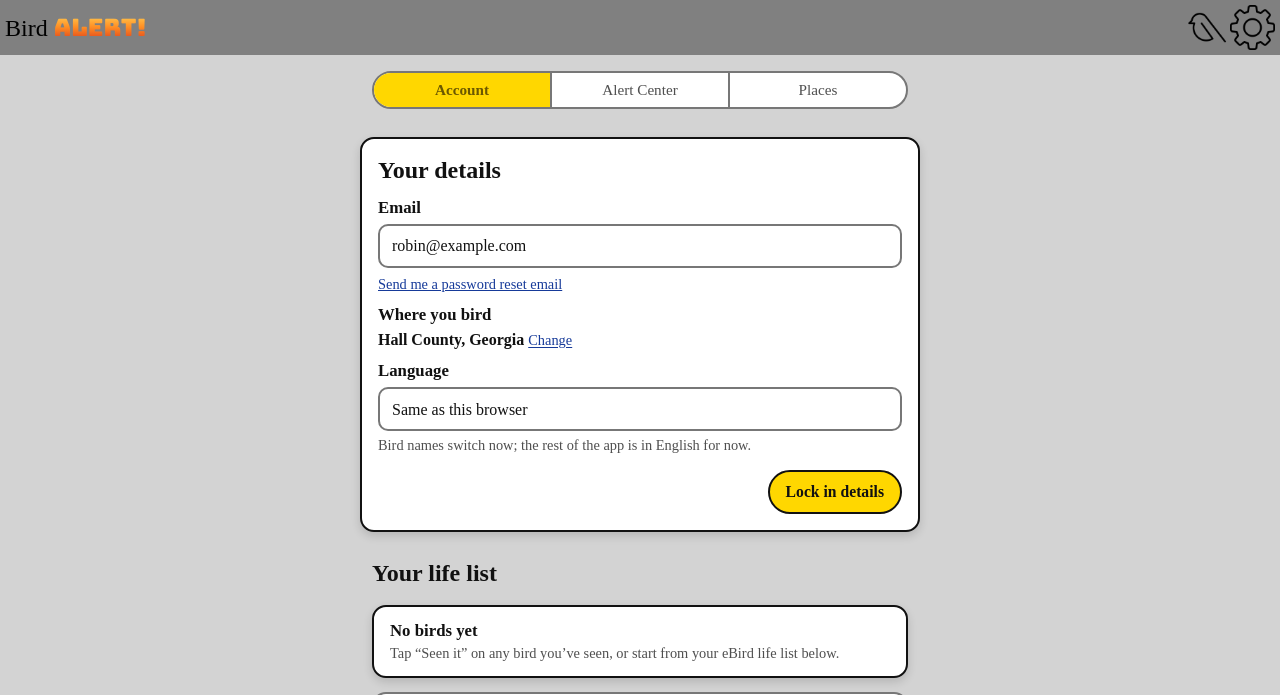
Settings › keeps the push sub-options greyed out until push is on for this device
Click the button "Alert Center".
click(639, 90)  # box [550,73,728,107]
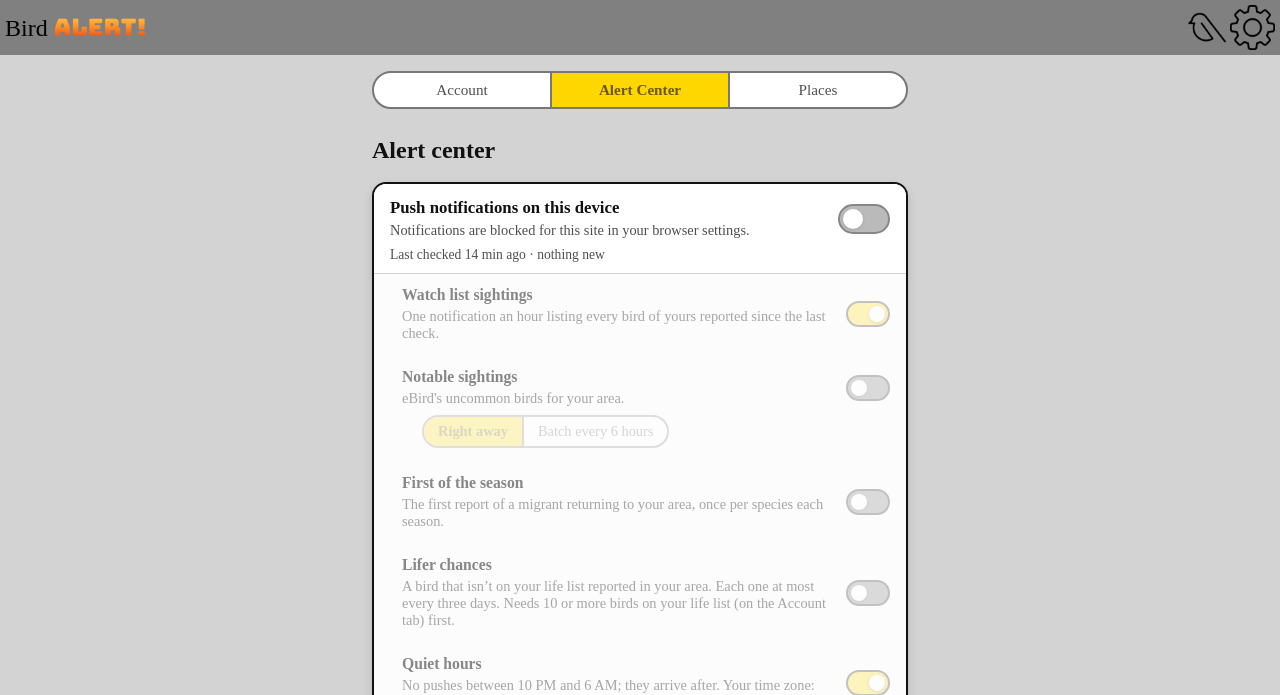
Expected: the checkbox labelled "Watch list sightings" is disabled, [846,301,890,327]
Expected: the checkbox labelled "Watch list sightings" is checked, [846,301,890,327]
Expected: the checkbox labelled "Notable sightings" is disabled, [846,375,890,401]
